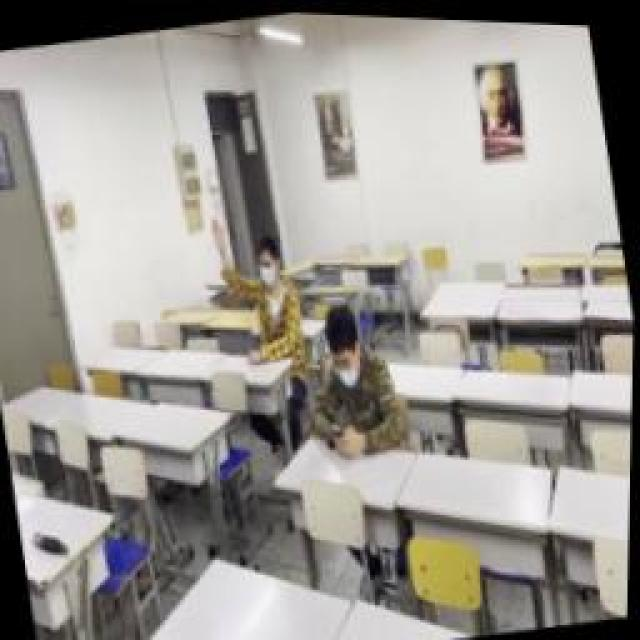phone: (298, 292, 412, 460)
study: (208, 200, 310, 362)
